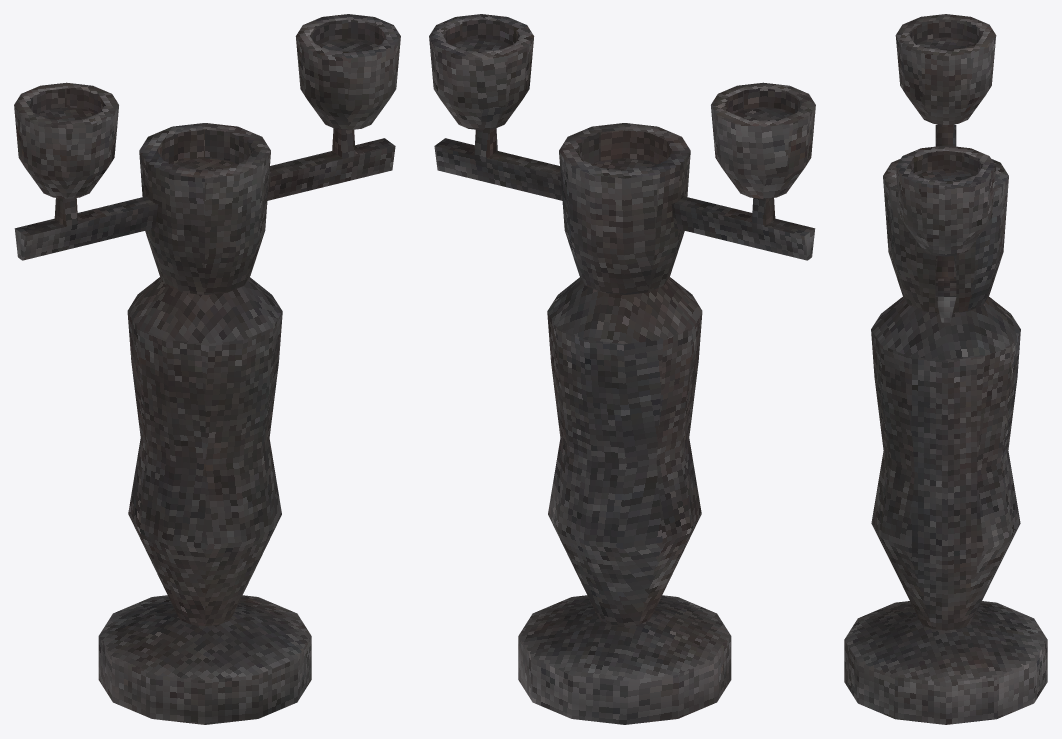
The model's file is Candelabra_2.gltf.
3 renders of one model, left to right at view 1: azimuth 30°, elevation 25°; view 2: azimuth 150°, elevation 25°; view 3: azimuth 270°, elevation 25°, orthographic. The views are drawn at different scales.
Visible parts, largest first — view 1: Candelabra_2; view 2: Candelabra_2; view 3: Candelabra_2.
Boxes of the visible parts, left/top/right/bottom form: Candelabra_2: left=14, top=14, right=400, bottom=724; Candelabra_2: left=429, top=14, right=815, bottom=724; Candelabra_2: left=844, top=14, right=1047, bottom=724.
Size of the model in its own units: 1.52 by 2.37 by 0.7506.
Materials: 1 (1 with a texture image).
